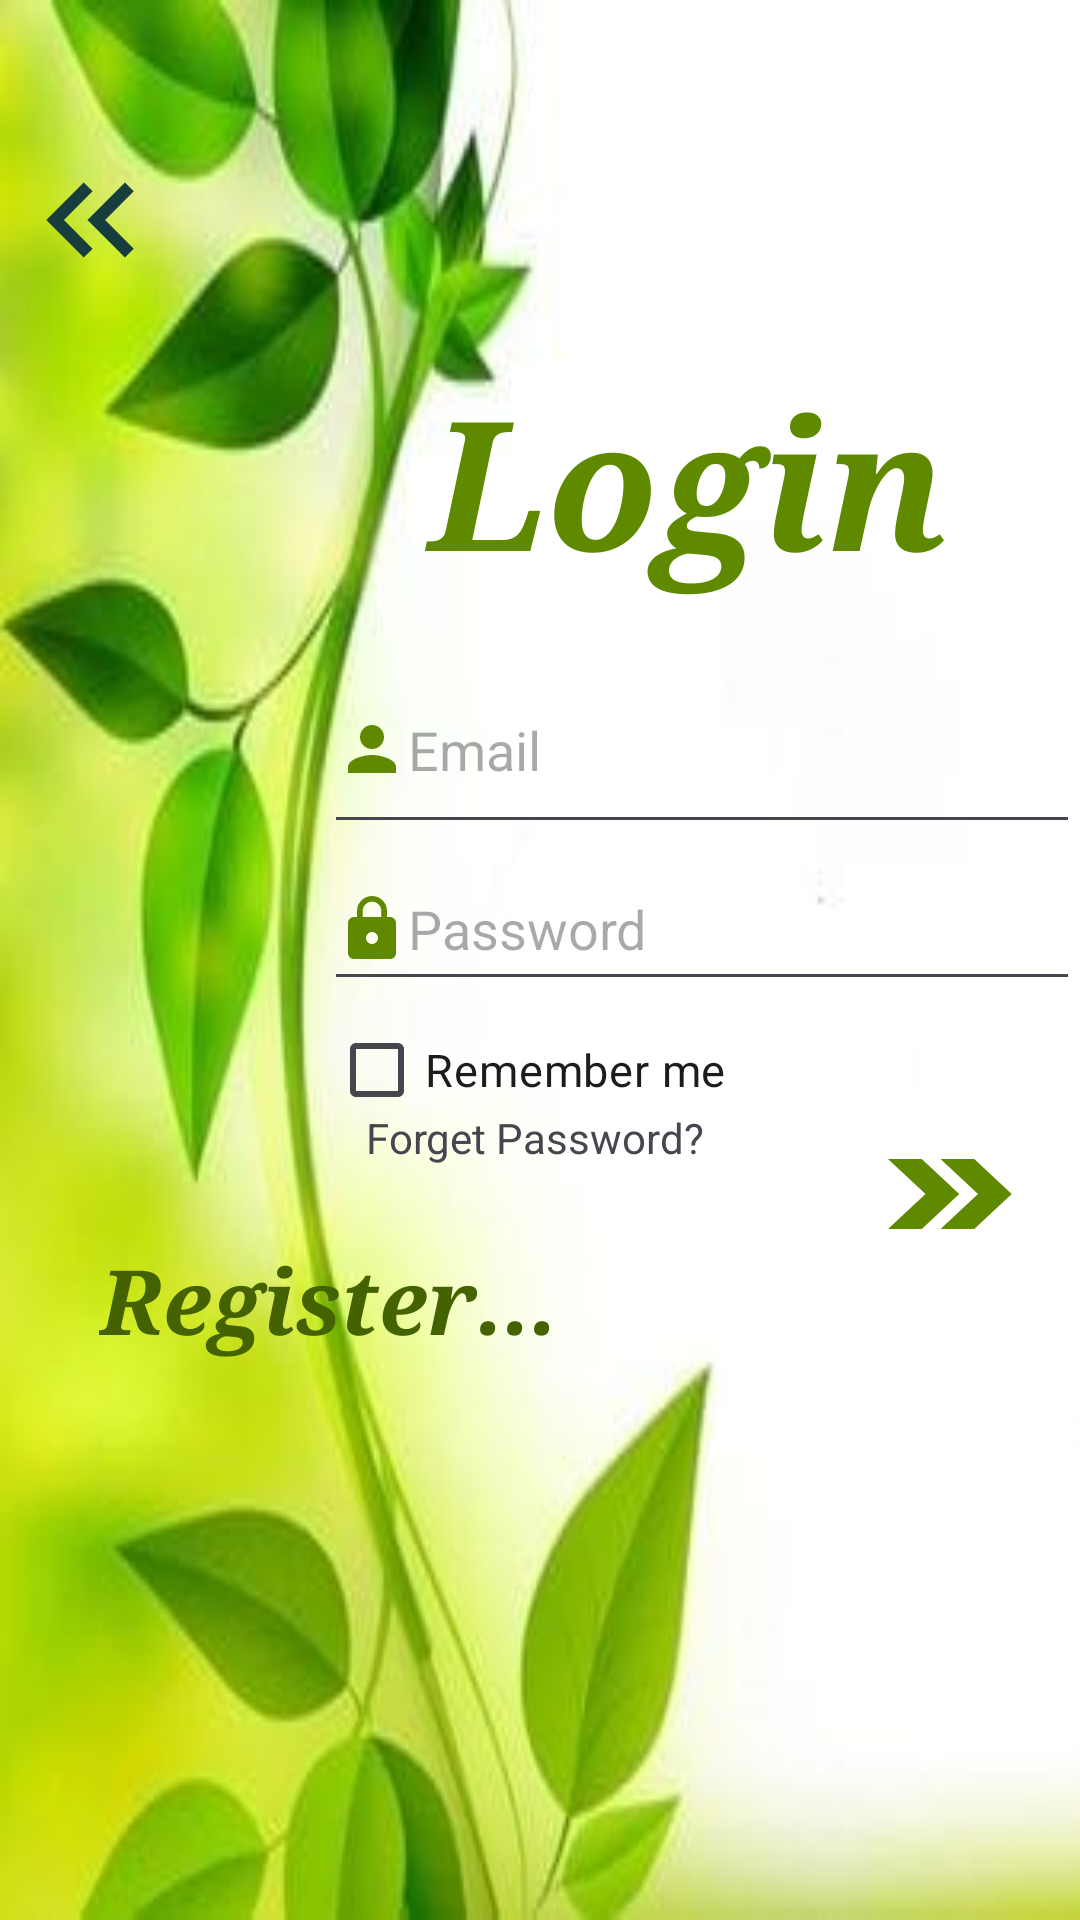

Point at icon controls on the screen. Image size 1080*1920, points as (x,y).
double arrow: (950,1194)
keyboard double arrow left: (90,220)
